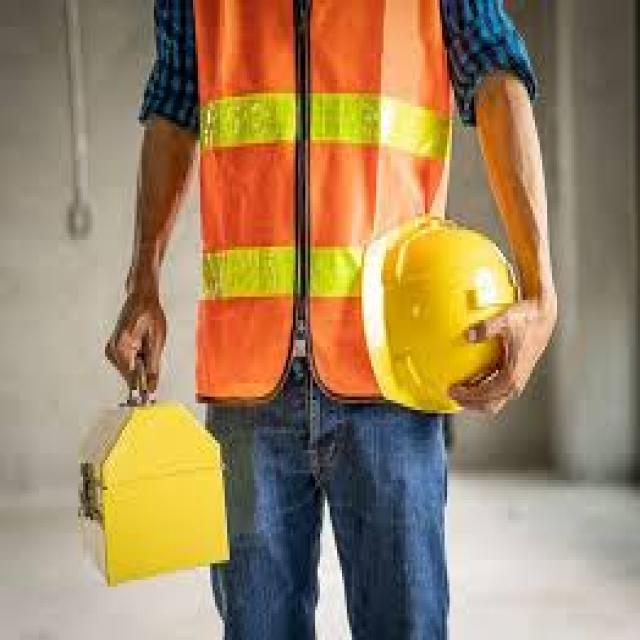Reflective-Jacket: (156, 0, 460, 420)
Safety-Helmet: (344, 207, 535, 423)
